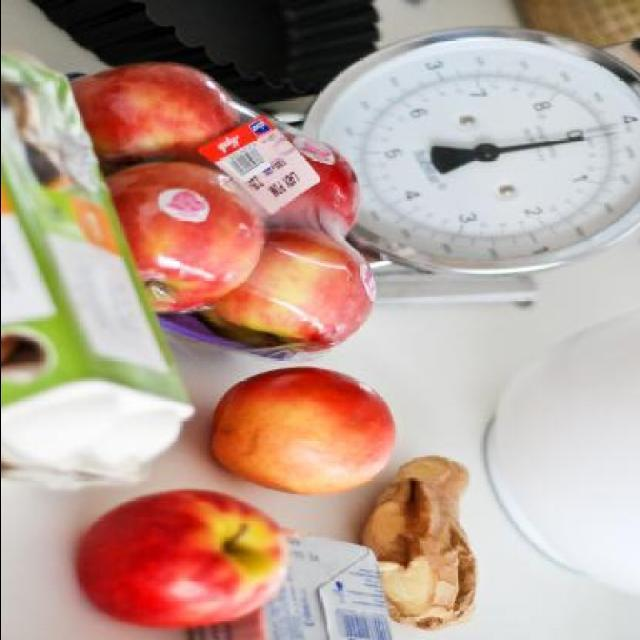Apple pie: (69, 484, 289, 634), (207, 362, 390, 498), (111, 164, 263, 316), (208, 231, 380, 354), (73, 64, 241, 173), (266, 129, 358, 240)
